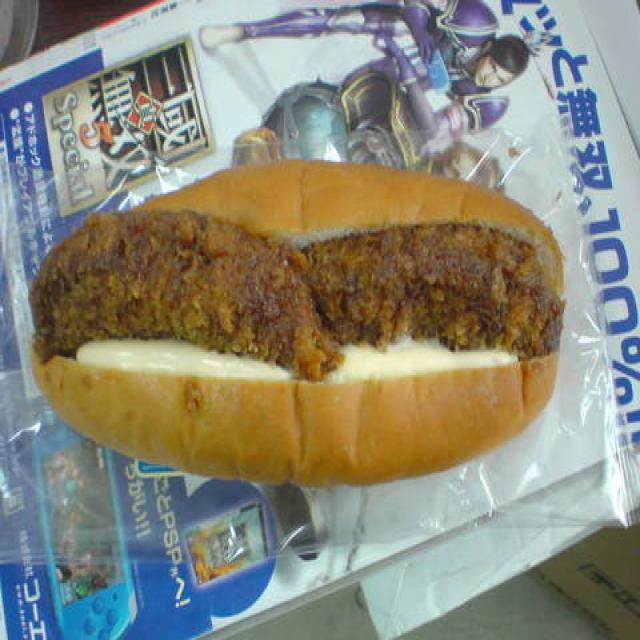三明治: (20, 160, 573, 466)
